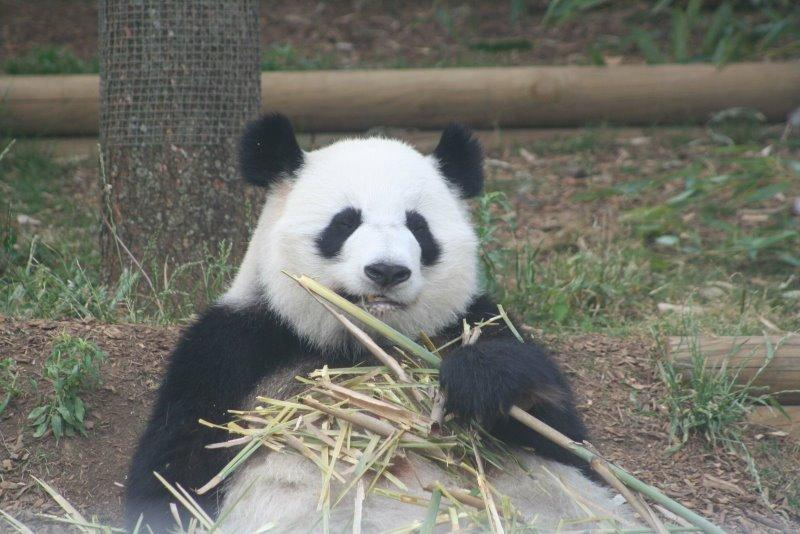panda: (125, 113, 495, 533), (445, 325, 598, 478), (192, 449, 316, 533)
